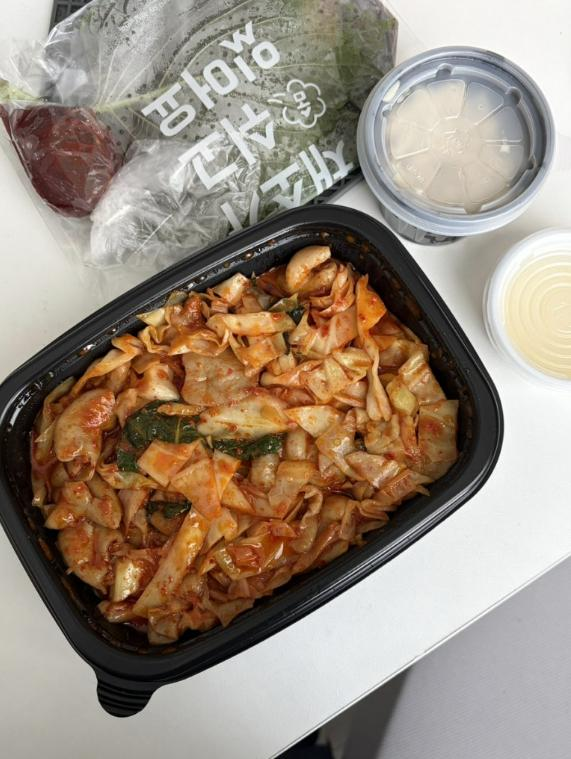Lunch Box: (0, 205, 502, 716), (0, 0, 397, 301), (357, 47, 553, 243), (483, 229, 570, 389)
